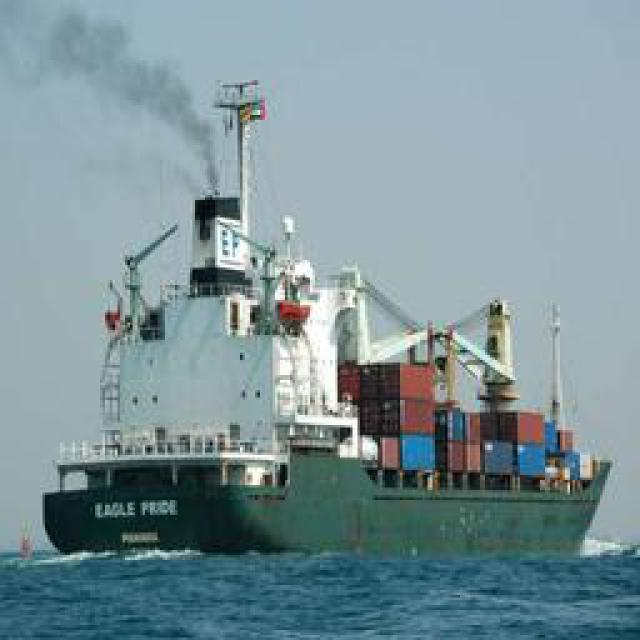Ship: (45, 165, 620, 565)
